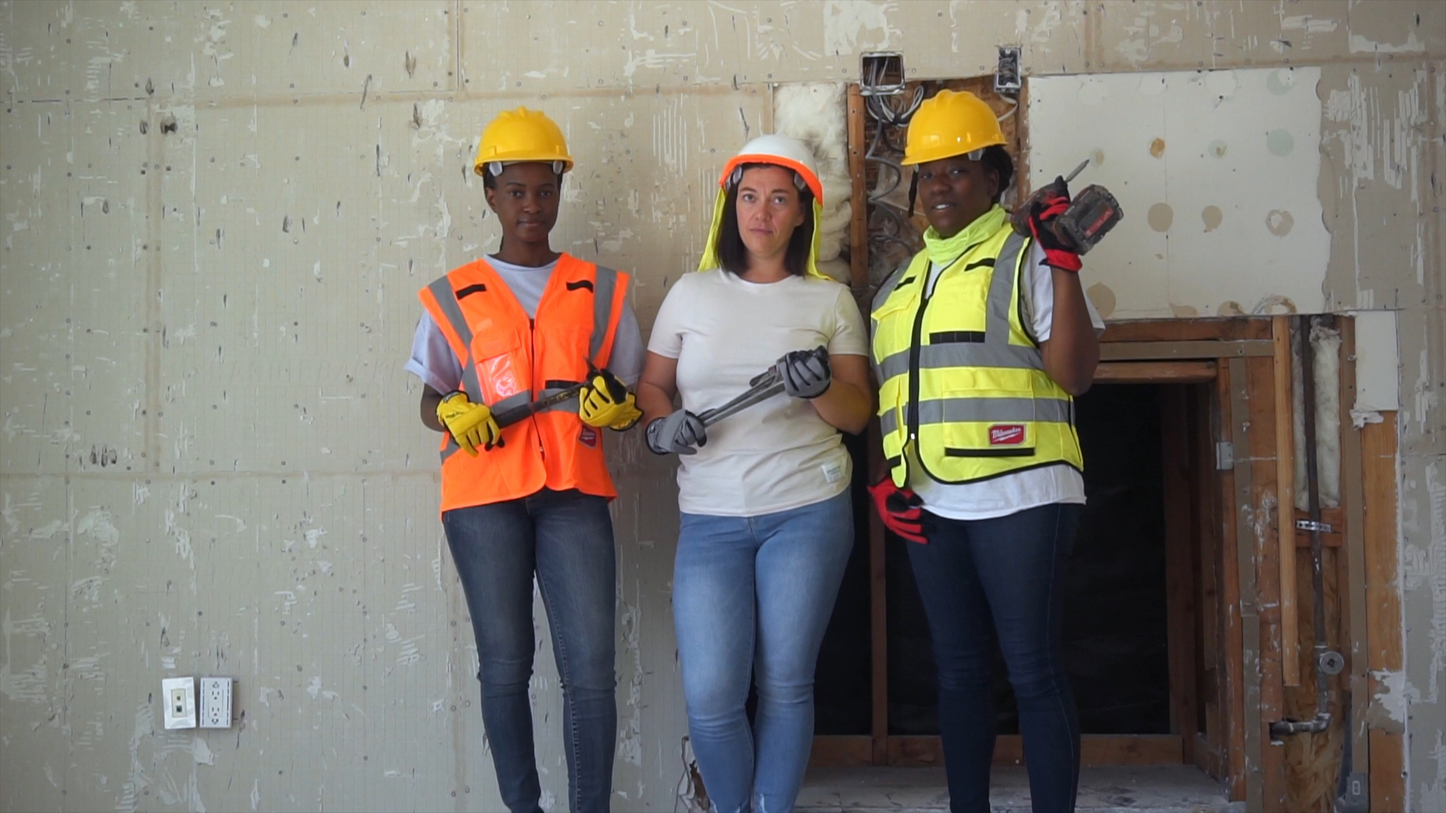gloves: (869, 470, 931, 567), (1017, 199, 1098, 269), (436, 390, 506, 459), (639, 396, 708, 464), (569, 370, 645, 431), (777, 338, 828, 406)
